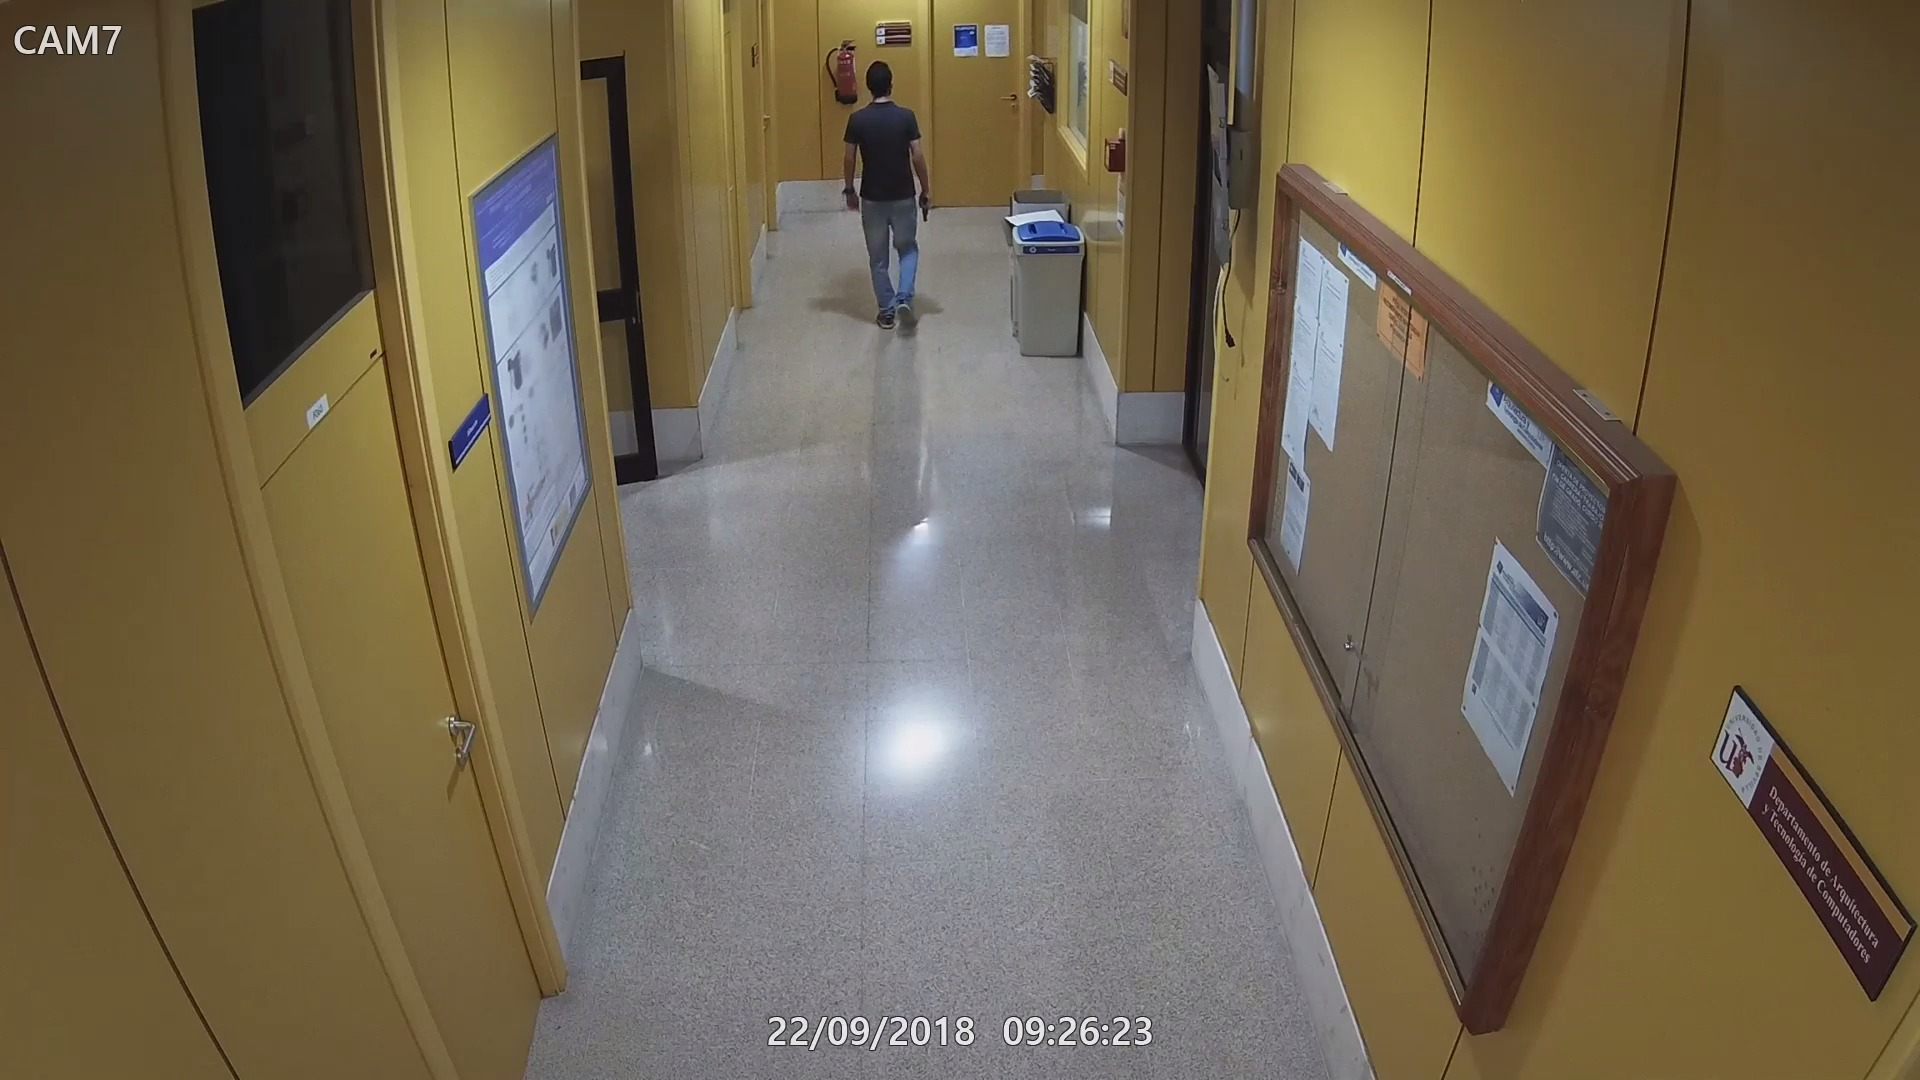Handgun: (913, 187, 938, 224)
